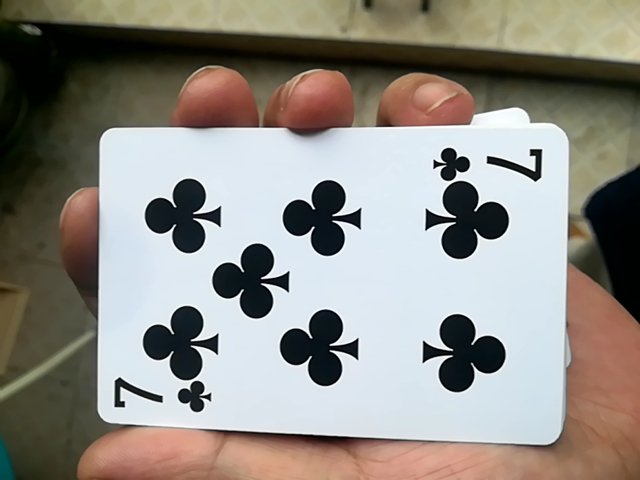mh 7: (81, 122, 563, 451)
